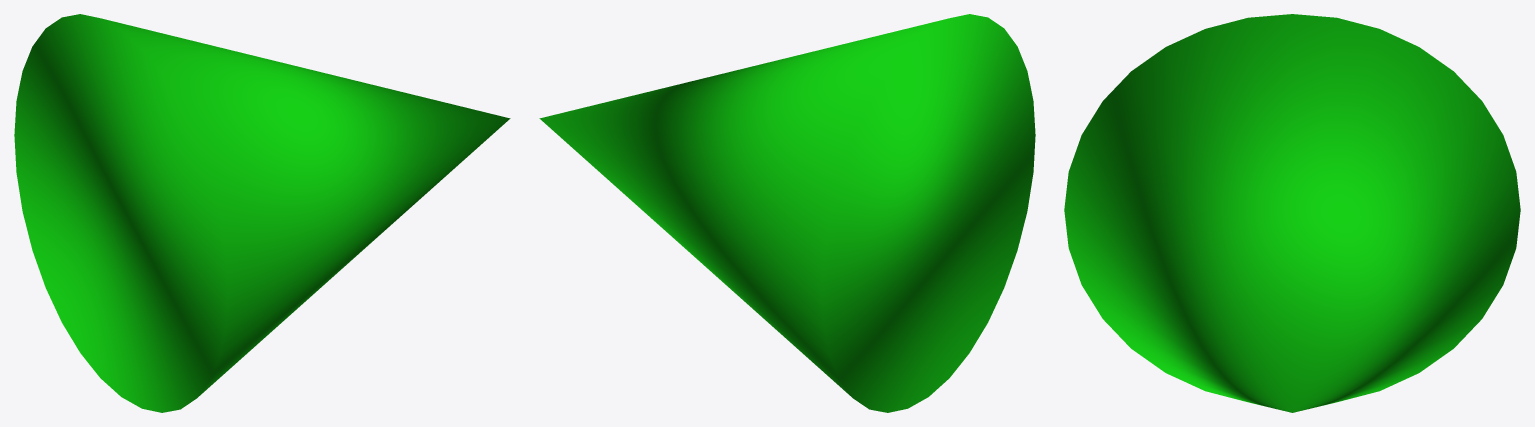
Rendered from SnakeTail.obj.
3 views of the same model, side by side, from view 1: azimuth 30°, elevation 25°; view 2: azimuth 150°, elevation 25°; view 3: azimuth 270°, elevation 25° (orthographic). The views are drawn at different scales.
Parts seen in each view (by area): view 1: Cone; view 2: Cone; view 3: Cone.
Boxes of the visible parts, box(x1,y1,x2,y2) form: Cone: box(14, 14, 510, 412); Cone: box(539, 14, 1035, 412); Cone: box(1064, 14, 1520, 412).
Size of the model in its own units: 0.404 by 0.364 by 0.384.
